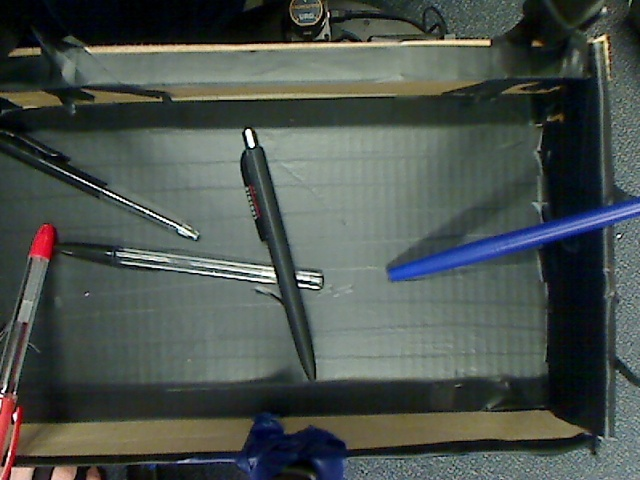pen: (206, 114, 333, 397), (1, 108, 209, 249), (372, 185, 640, 291), (23, 237, 328, 299), (1, 214, 75, 452)
